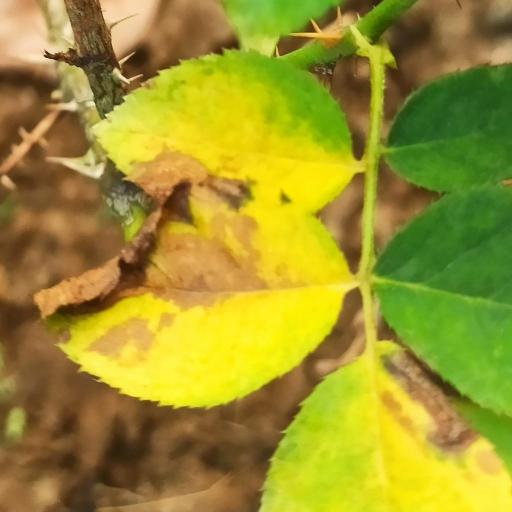thrip: (48, 184, 351, 406), (259, 341, 512, 512), (95, 50, 362, 212)
